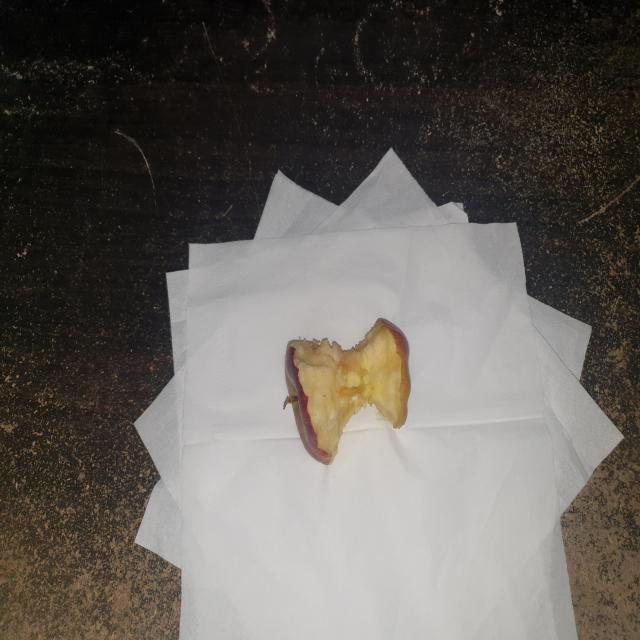apple: (273, 310, 428, 462)
